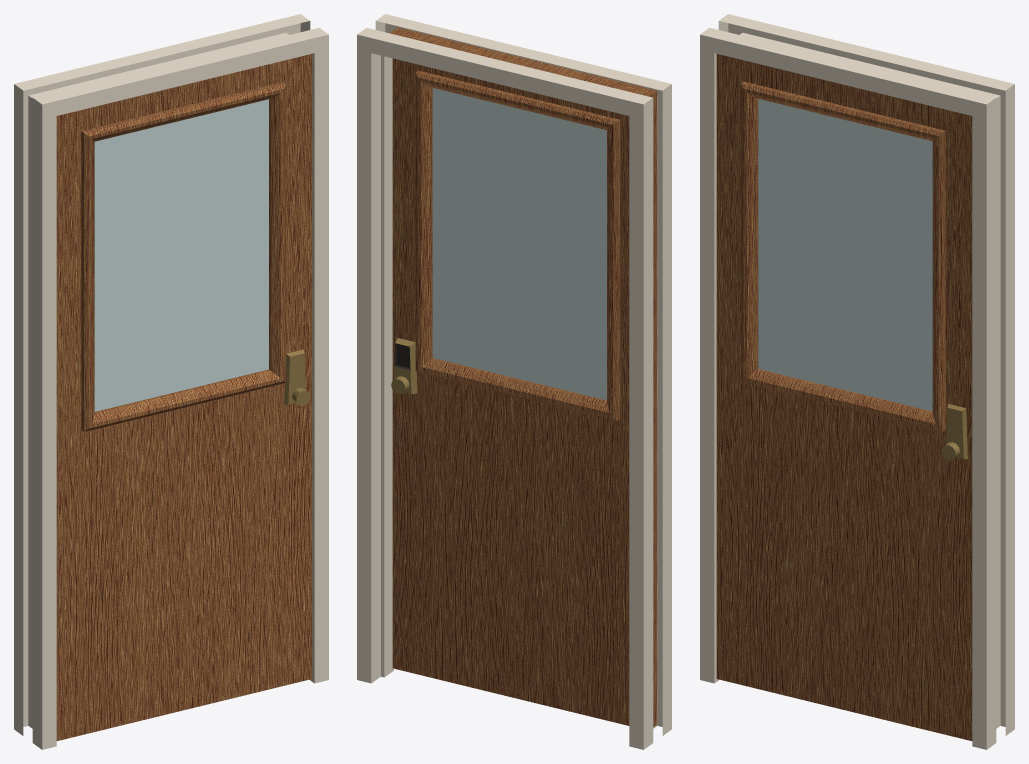
File: wildcat_software_door.fbx
3 renders of one model, left to right at view 1: azimuth 30°, elevation 25°; view 2: azimuth 150°, elevation 25°; view 3: azimuth 330°, elevation 25°, orthographic.
Visible parts, largest first — view 1: o_113_door, wildcat_software_door, o_113_door.001; view 2: o_113_door, wildcat_software_door, o_113_door.001; view 3: o_113_door, wildcat_software_door, o_113_door.001.
Part boxes in pixels (bbox=[...]): o_113_door: bbox=[56, 54, 312, 740]; wildcat_software_door: bbox=[14, 14, 328, 749]; o_113_door.001: bbox=[284, 349, 310, 405]; o_113_door: bbox=[389, 27, 657, 727]; wildcat_software_door: bbox=[357, 14, 671, 749]; o_113_door.001: bbox=[391, 338, 417, 394]; o_113_door: bbox=[716, 54, 972, 740]; wildcat_software_door: bbox=[700, 14, 1014, 749]; o_113_door.001: bbox=[941, 404, 967, 460].
Bounding box in the file's own units: 101 × 217 × 20.96.
